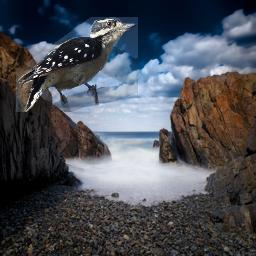Woodpecker: (16, 17, 138, 112)
